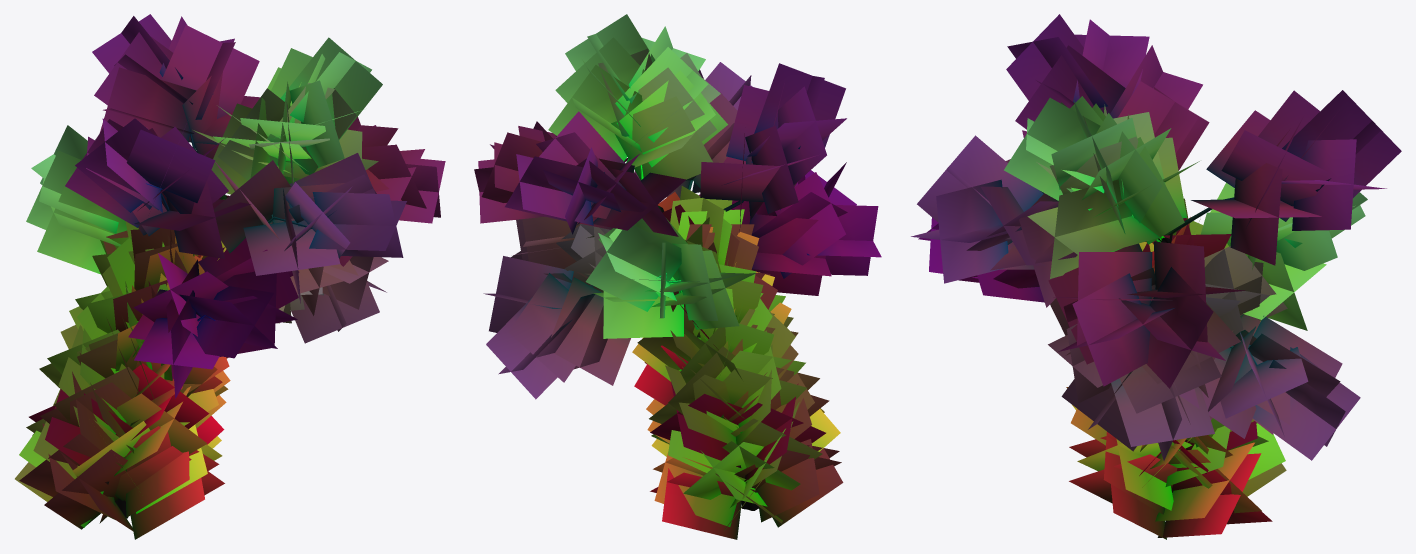
The model's file is URP_P3_Tree_13_LOD_1.fbx.
3 views of the same model, side by side, from view 1: azimuth 30°, elevation 25°; view 2: azimuth 150°, elevation 25°; view 3: azimuth 270°, elevation 25° (orthographic). The views are drawn at different scales.
Parts seen in each view (by area): view 1: Tree_13_LOD_1; view 2: Tree_13_LOD_1; view 3: Tree_13_LOD_1.
Part boxes in pixels (left/top/right/bottom): Tree_13_LOD_1: left=15, top=14, right=445, bottom=539; Tree_13_LOD_1: left=474, top=14, right=881, bottom=539; Tree_13_LOD_1: left=911, top=14, right=1401, bottom=539.
Size of the model in its own units: 570 by 662 by 564.
